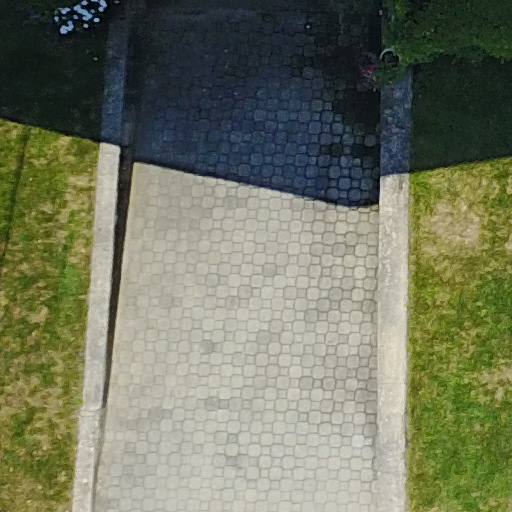flower pot: (369, 40, 411, 81)
